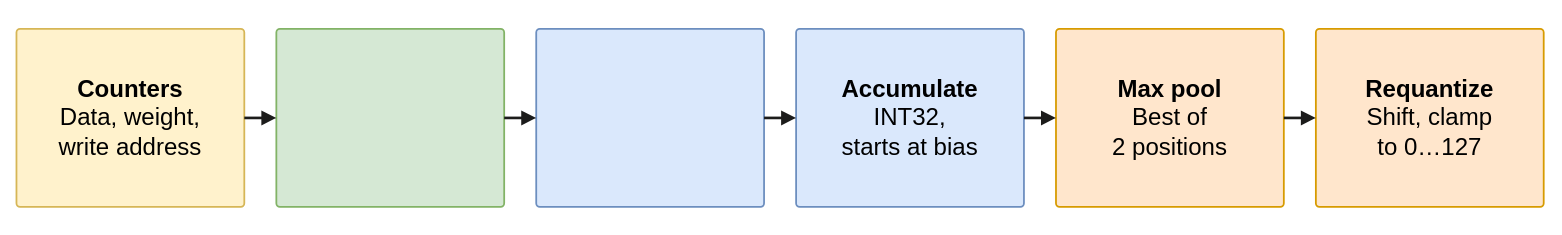
This 1562x235 diagram has some shape labels left out. Here are the shapes that lost their labels. From the top down, the box of each, then its label:
(275, 28, 505, 207): BSRAM read Feature and ROM weight
(535, 28, 765, 207): Multiply 8 × 8 signed
